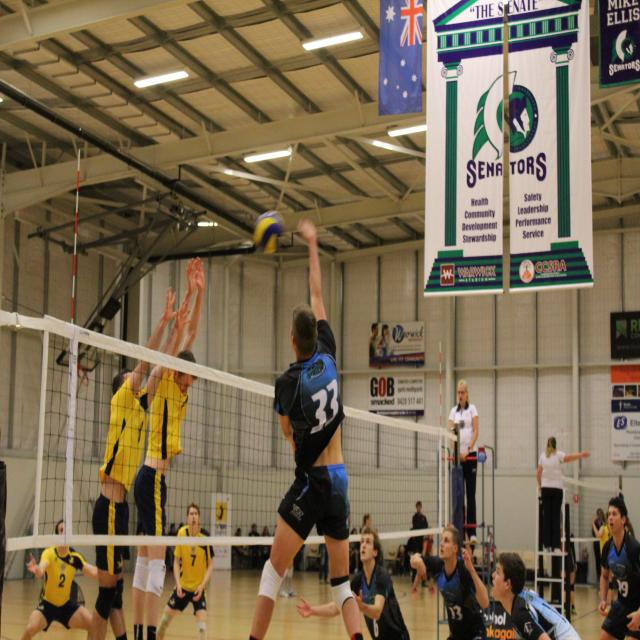body: (234, 216, 372, 640), (86, 286, 191, 640), (127, 254, 207, 640), (232, 514, 436, 582), (295, 523, 410, 640), (20, 518, 99, 640), (409, 525, 489, 640), (490, 550, 581, 640), (156, 503, 215, 640), (536, 436, 591, 554), (597, 495, 640, 640), (446, 378, 481, 545), (590, 509, 614, 605), (156, 520, 184, 582), (410, 500, 429, 583), (480, 523, 499, 591), (564, 531, 578, 616), (368, 322, 395, 364), (592, 508, 603, 583)
